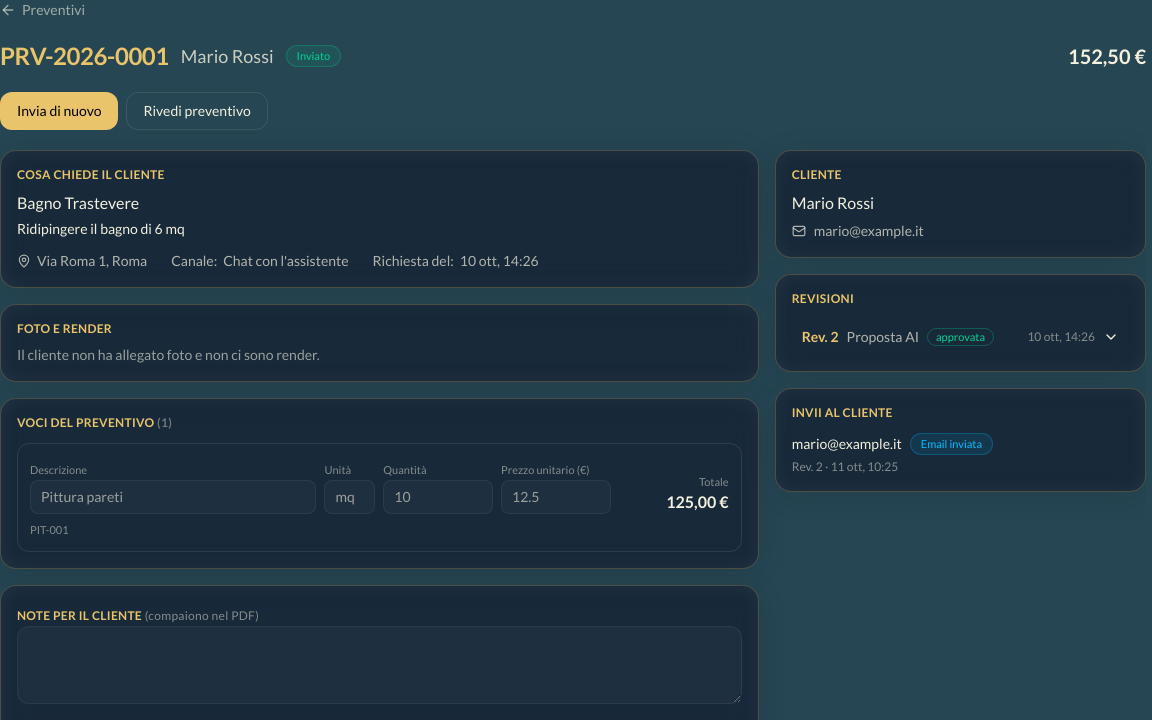
Test: DossierView › revising a quote that was already sent › warns that the client already has it and that a new revision will be created
Click the button with test id "btn-revise": (197, 111) [126,92,268,130]
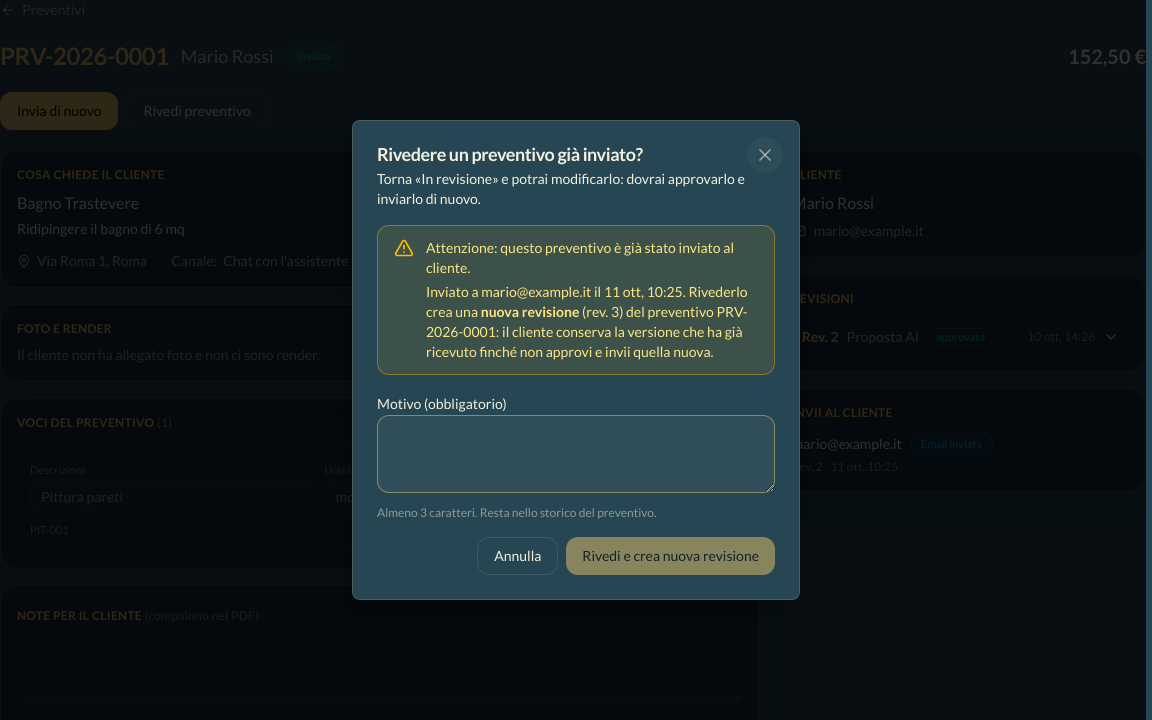
Expected: the message with test id "revise-warning" shows "già stato inviato al cliente", [426,239,734,276]
Expected: the message with test id "revise-warning" shows "mario@example.it", [426,283,686,300]
Expected: the message with test id "revise-warning" shows "nuova revisione", [481,303,579,320]
